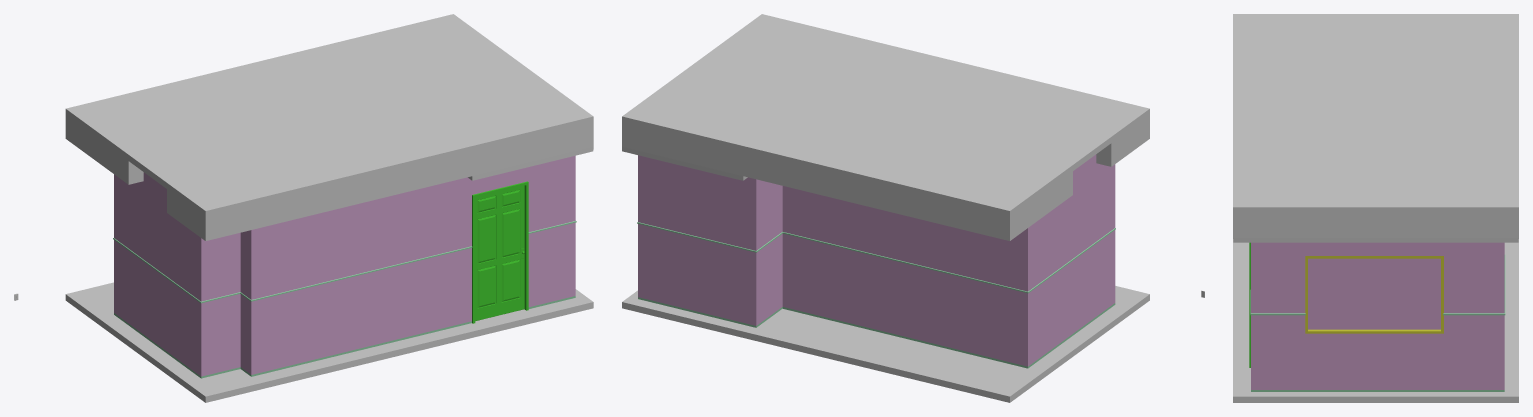
File: FloorPlan9_physics.fbx
The picture shows the model from 3 angles, left to right: view 1: azimuth 30°, elevation 25°; view 2: azimuth 150°, elevation 25°; view 3: azimuth 270°, elevation 25°; orthographic projection. The views are drawn at different scales.
Visible parts, largest first — view 1: Ceiling, StandardWallSize, Floor, StandardDoor1, StandardDoorFrame1; view 2: Ceiling, StandardWallSize, Floor; view 3: Ceiling, StandardWallSize, Window, Floor.
Part boxes in pixels (x1,y1,x2,y2): Ceiling: [65, 14, 593, 240]; StandardWallSize: [113, 155, 576, 378]; Floor: [65, 282, 593, 402]; StandardDoor1: [475, 185, 524, 320]; StandardDoorFrame1: [472, 181, 528, 323]; Ceiling: [622, 14, 1149, 240]; StandardWallSize: [637, 154, 1115, 368]; Floor: [622, 286, 1149, 402]; Ceiling: [1233, 14, 1518, 242]; StandardWallSize: [1250, 242, 1505, 391]; Window: [1305, 256, 1443, 333]; Floor: [1233, 239, 1518, 402].
Bounding box in the file's own units: 843 × 302 × 400.
